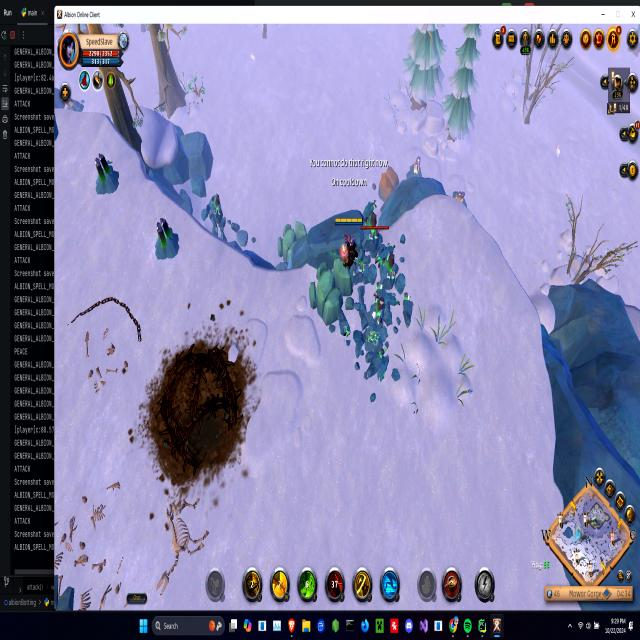ore: (358, 206, 390, 290), (200, 190, 243, 252)
player: (348, 234, 412, 392), (152, 214, 181, 264), (93, 152, 121, 198), (406, 154, 426, 185), (451, 181, 469, 212)
red: (333, 209, 364, 273)
tree: (304, 249, 354, 339), (274, 207, 313, 270), (375, 159, 401, 206)
